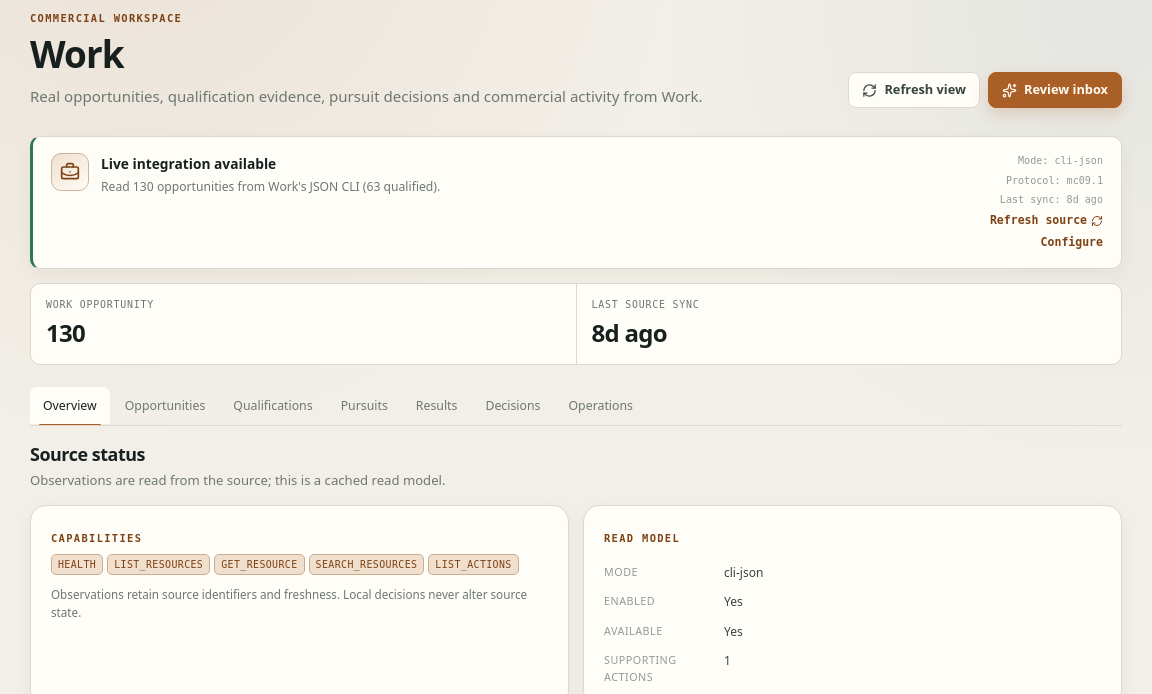
Test: IntegrationWorkspacePage › renders Work qualification and preserves source-versus-local distinction
Click the tab "Opportunities": (165, 406) [112,387,218,424]
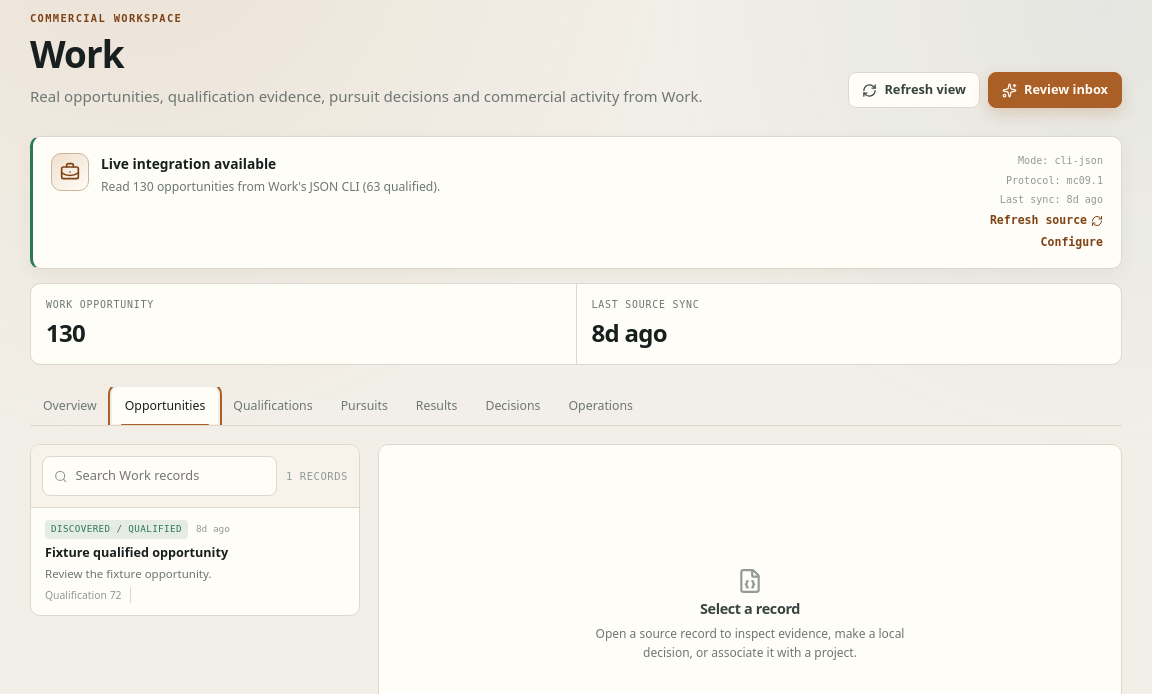
Click the button "Fixture qualified opportunity": (195, 562) [31,508,359,616]
(page scrolled)
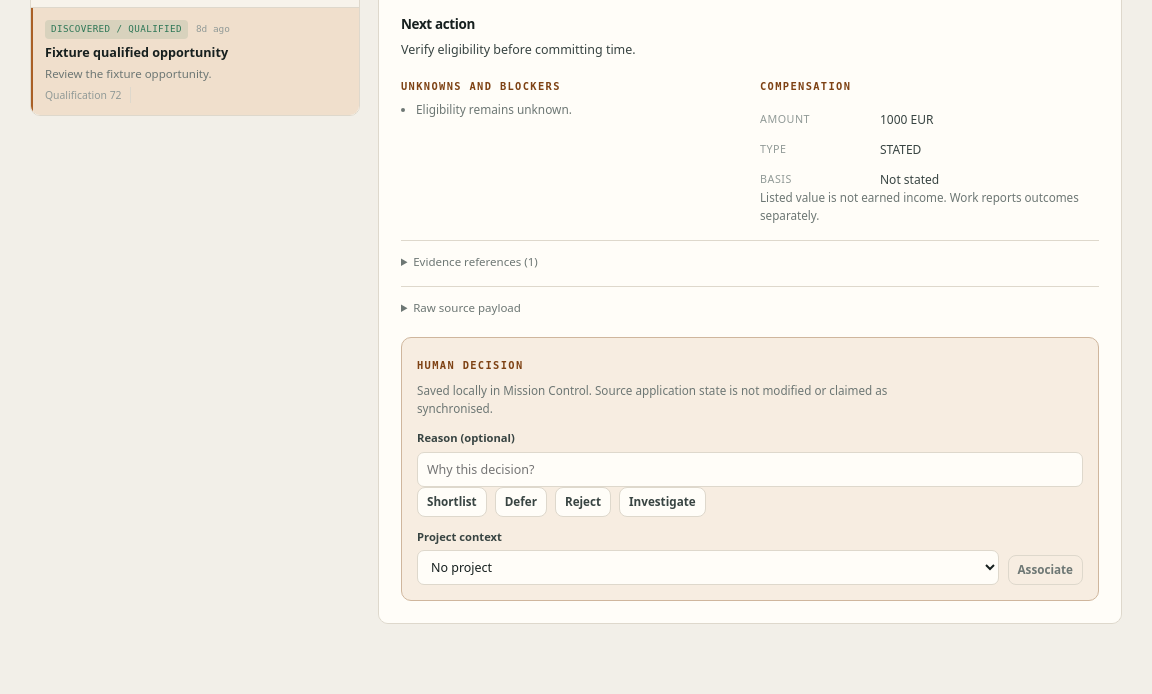
Now the text "Verify eligibility before committing time." is shown, box [401,41,636,58]
Now the text "Listed value is not earned income" is shown, box [760,190,1079,223]
Now the text "Human decision" is shown, box [417,359,524,371]
